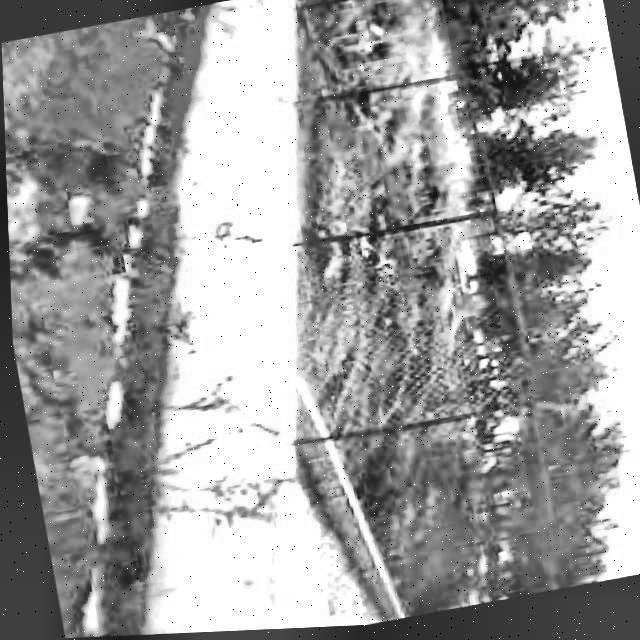Fire: (3, 92, 81, 284)
